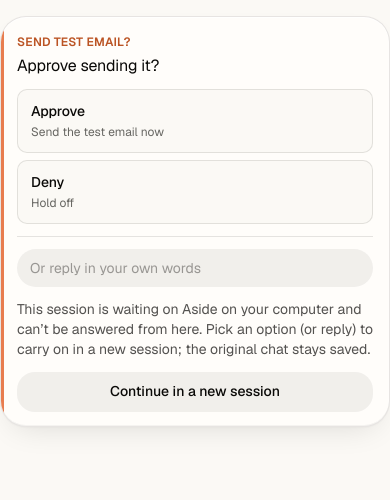
suspended recovery regressions › shows a retryable failure without losing the typed answer
Type "Keep my exact answer" into the field named "Reply to this question". click: (195, 268)
box: [17,249,373,287]
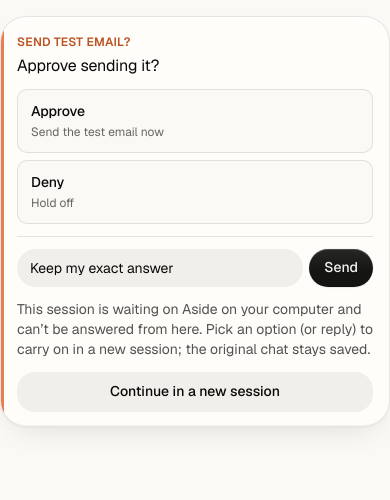
Click the button "Send". click: (341, 268)
box: [309,249,373,287]
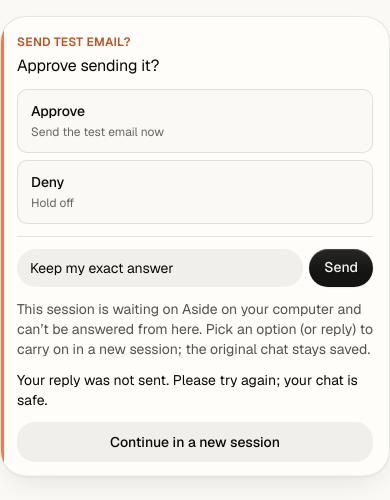
Expected: the button "Send" is enabled, [309,249,373,287]
Expected: the message "Your reply was not sent. Please try again; your chat is safe." is shown, [17,370,373,410]
